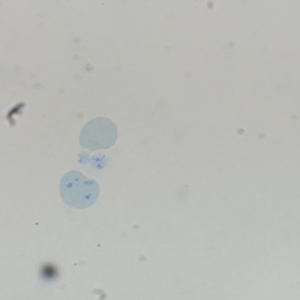aggregate reticulocyte: (57, 169, 101, 210)
erythrocyte: (77, 115, 119, 153)
